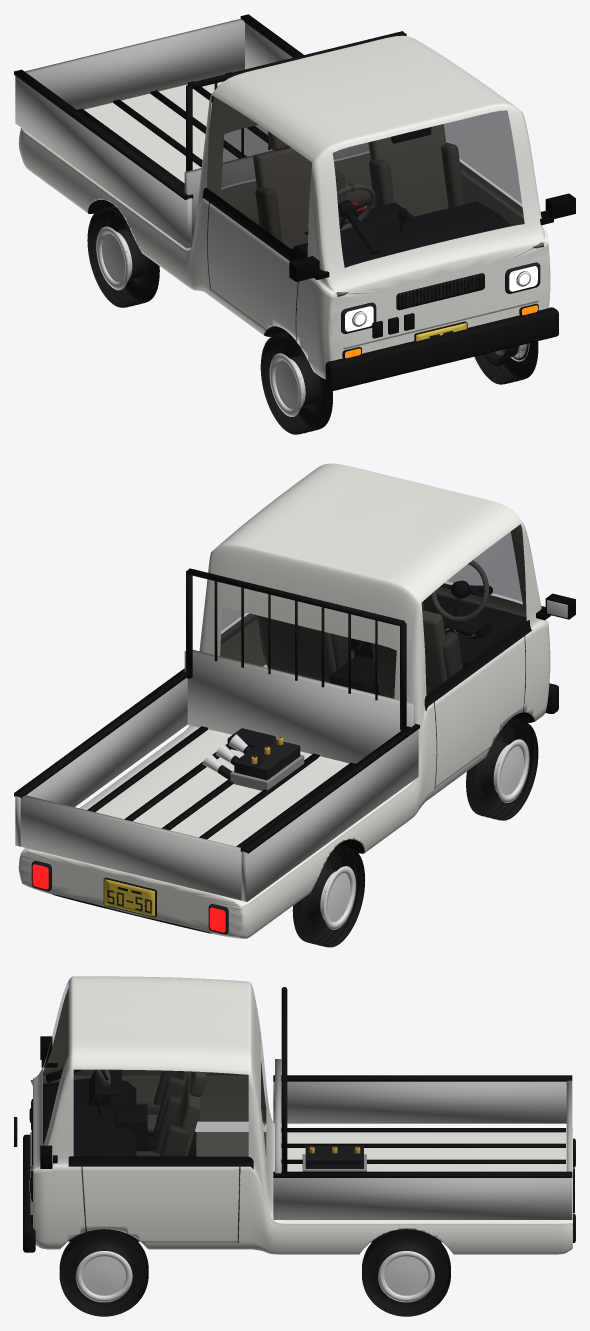
File: hauler.glb
3 renders of one model, top to bottom at view 1: azimuth 30°, elevation 25°; view 2: azimuth 150°, elevation 25°; view 3: azimuth 270°, elevation 25°, orthographic. The views are drawn at different scales.
Parts seen in each view (by area): view 1: body.008, wheelmesh_FR.008, wheelmesh_RR.008, wheelmesh_FL.008, steering_wheel.008; view 2: body.008, wheelmesh_FR.008, wheelmesh_RR.008, engine_o2.009, engine_o0.009, steering_wheel.008; view 3: body.008, wheelmesh_FL.008, wheelmesh_RL.008, engine_o0.009, engine_o2.009.
Part boxes in pixels (bbox=[...]): body.008: bbox=[14, 14, 575, 390]; wheelmesh_FR.008: bbox=[260, 332, 332, 434]; wheelmesh_RR.008: bbox=[87, 205, 159, 307]; wheelmesh_FL.008: bbox=[474, 341, 538, 384]; steering_wheel.008: bbox=[337, 183, 379, 255]; body.008: bbox=[14, 463, 575, 938]; wheelmesh_FR.008: bbox=[466, 718, 538, 820]; wheelmesh_RR.008: bbox=[292, 845, 364, 947]; engine_o2.009: bbox=[202, 734, 304, 790]; engine_o0.009: bbox=[227, 728, 303, 789]; steering_wheel.008: bbox=[430, 560, 492, 621]; body.008: bbox=[14, 976, 575, 1254]; wheelmesh_FL.008: bbox=[59, 1229, 148, 1316]; wheelmesh_RL.008: bbox=[362, 1229, 450, 1316]; engine_o0.009: bbox=[307, 1146, 362, 1165]; engine_o2.009: bbox=[302, 1145, 366, 1171].
Bounding box in the file's own units: 1.77 × 1.78 × 3.53.
38 materials, 4 textured.
